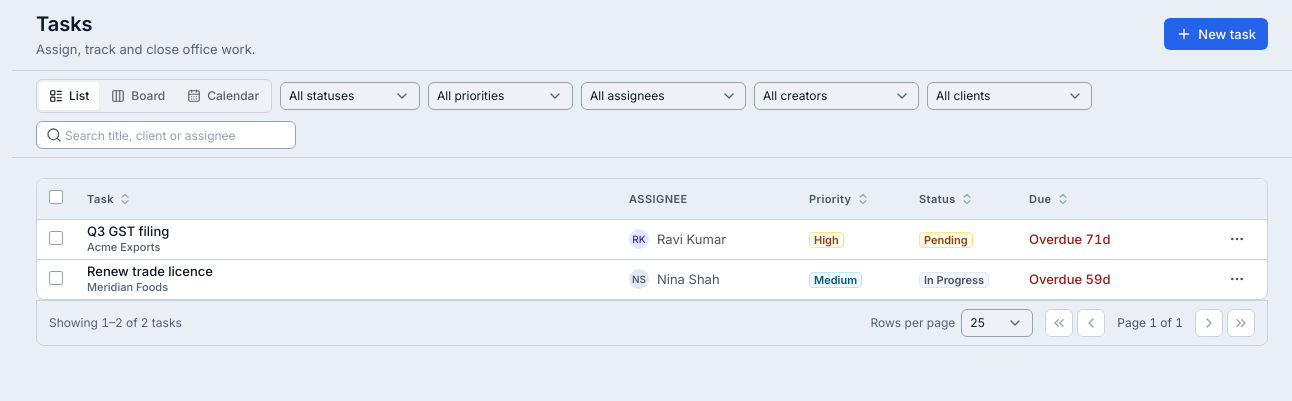
it: TaskList — filters do not crash the page › sorting a column asks the server for the new order rather than reordering locally
Check: the text "Q3 GST filing" is shown, box [87,223,169,239]
Step 1. Click the button "Due" → (1049, 199), box [1029,191,1070,207]
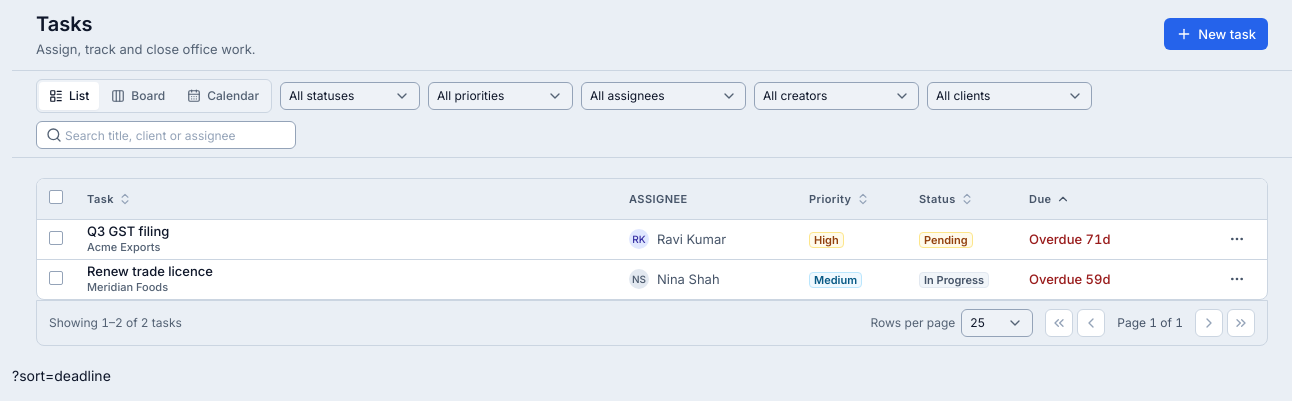
Check: the text with test id "query-string" shows "sort=", box [12,367,111,384]
